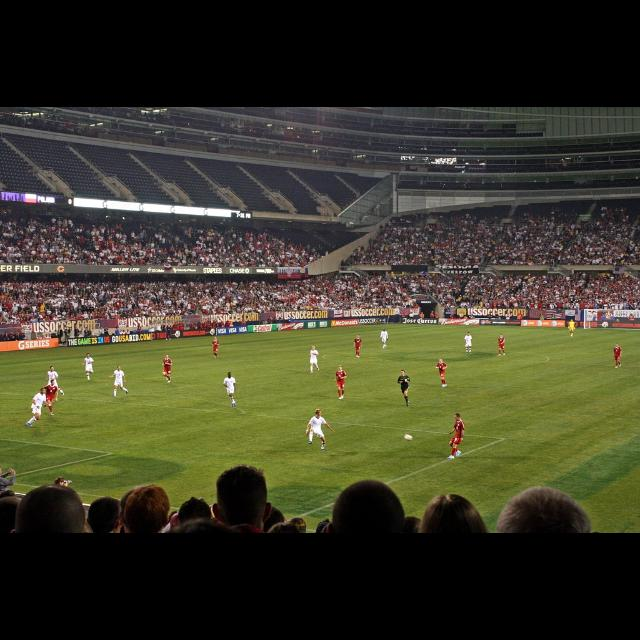Football: (404, 434, 410, 442)
